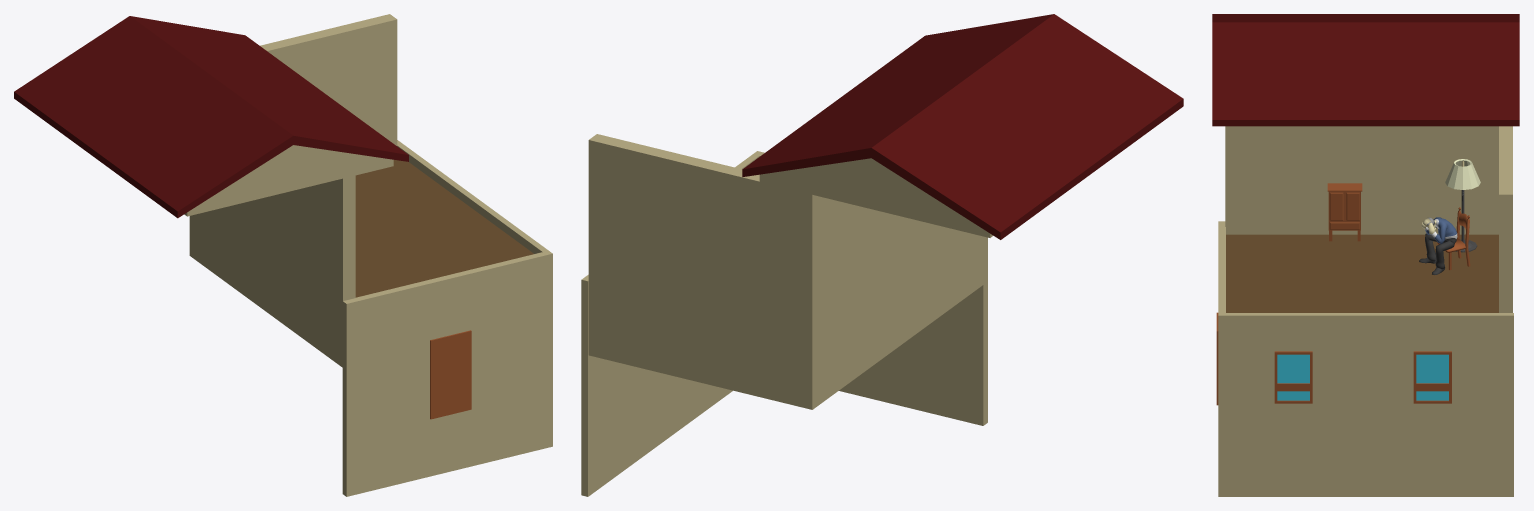
The model's file is mesh_LonerHouse.fbx.
3 views of the same model, side by side, from view 1: azimuth 30°, elevation 25°; view 2: azimuth 150°, elevation 25°; view 3: azimuth 270°, elevation 25° (orthographic). The views are drawn at different scales.
Parts seen in each view (by area): view 1: Cube; view 2: Cube; view 3: Cube.
Boxes of the visible parts, x1=… form: Cube: x1=14, y1=14, x2=552, y2=496; Cube: x1=581, y1=14, x2=1183, y2=496; Cube: x1=1212, y1=14, x2=1519, y2=496.
Bounding box in the file's own units: 592 × 562 × 442.
